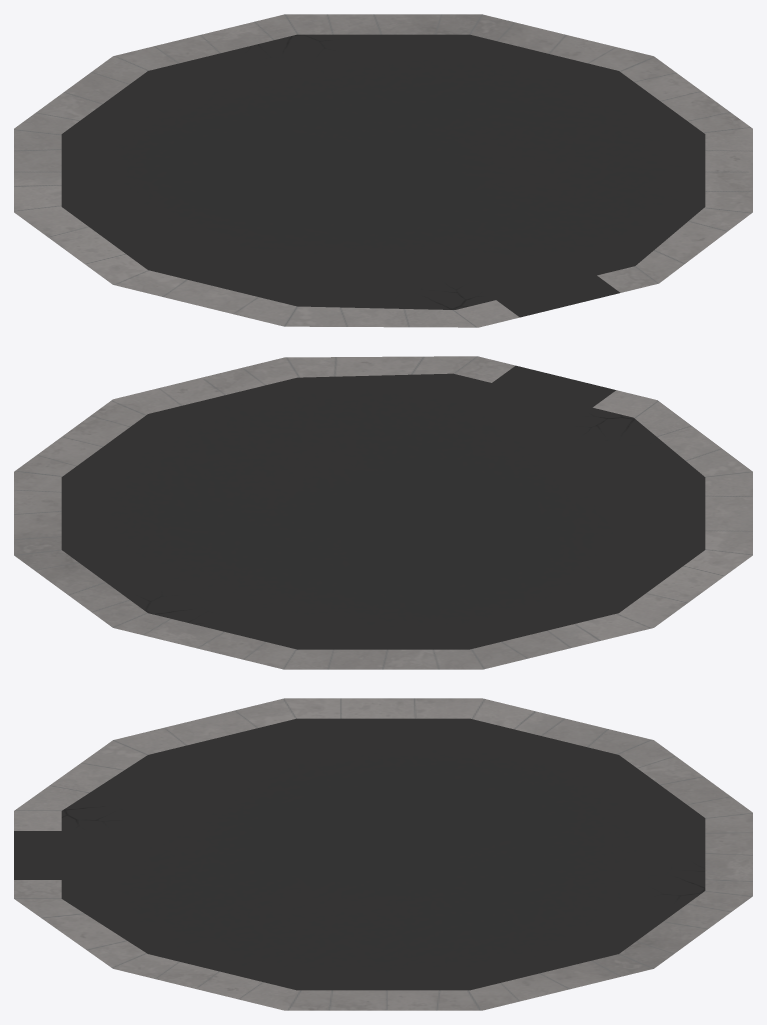
File: Round_Road.fbx
3 renders of one model, top to bottom at view 1: azimuth 30°, elevation 25°; view 2: azimuth 150°, elevation 25°; view 3: azimuth 270°, elevation 25°, orthographic.
Visible parts, largest first — view 1: Cylinder016; view 2: Cylinder016; view 3: Cylinder016.
Part boxes in pixels (bbox=[...]): Cylinder016: bbox=[14, 14, 752, 327]; Cylinder016: bbox=[14, 356, 752, 669]; Cylinder016: bbox=[14, 698, 752, 1010].
Bounding box in the file's own units: 2004 × 2004 × 8.76e-05.
